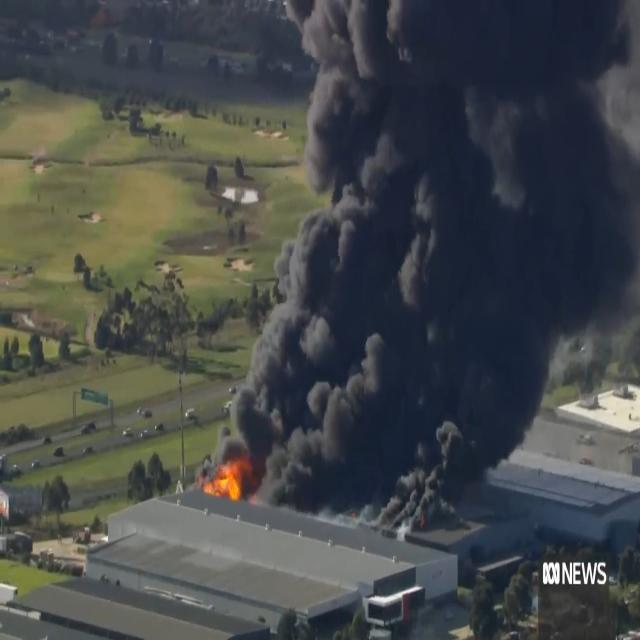fire: (205, 464, 249, 500)
